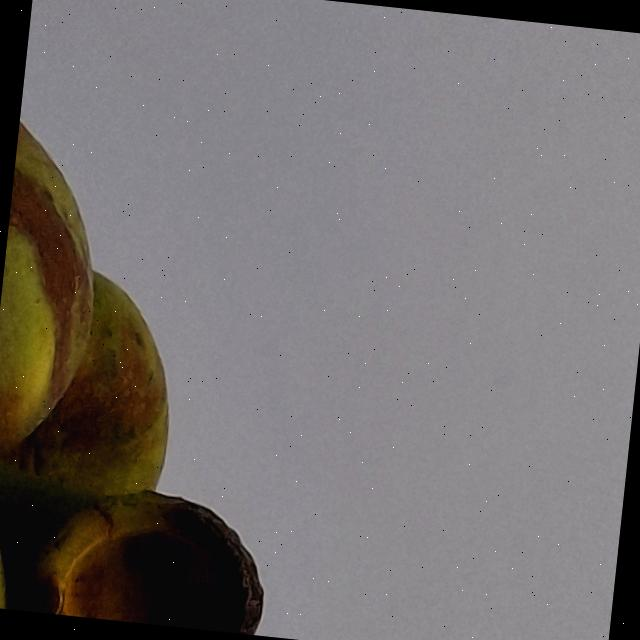mangosteen: (0, 0, 358, 638)
